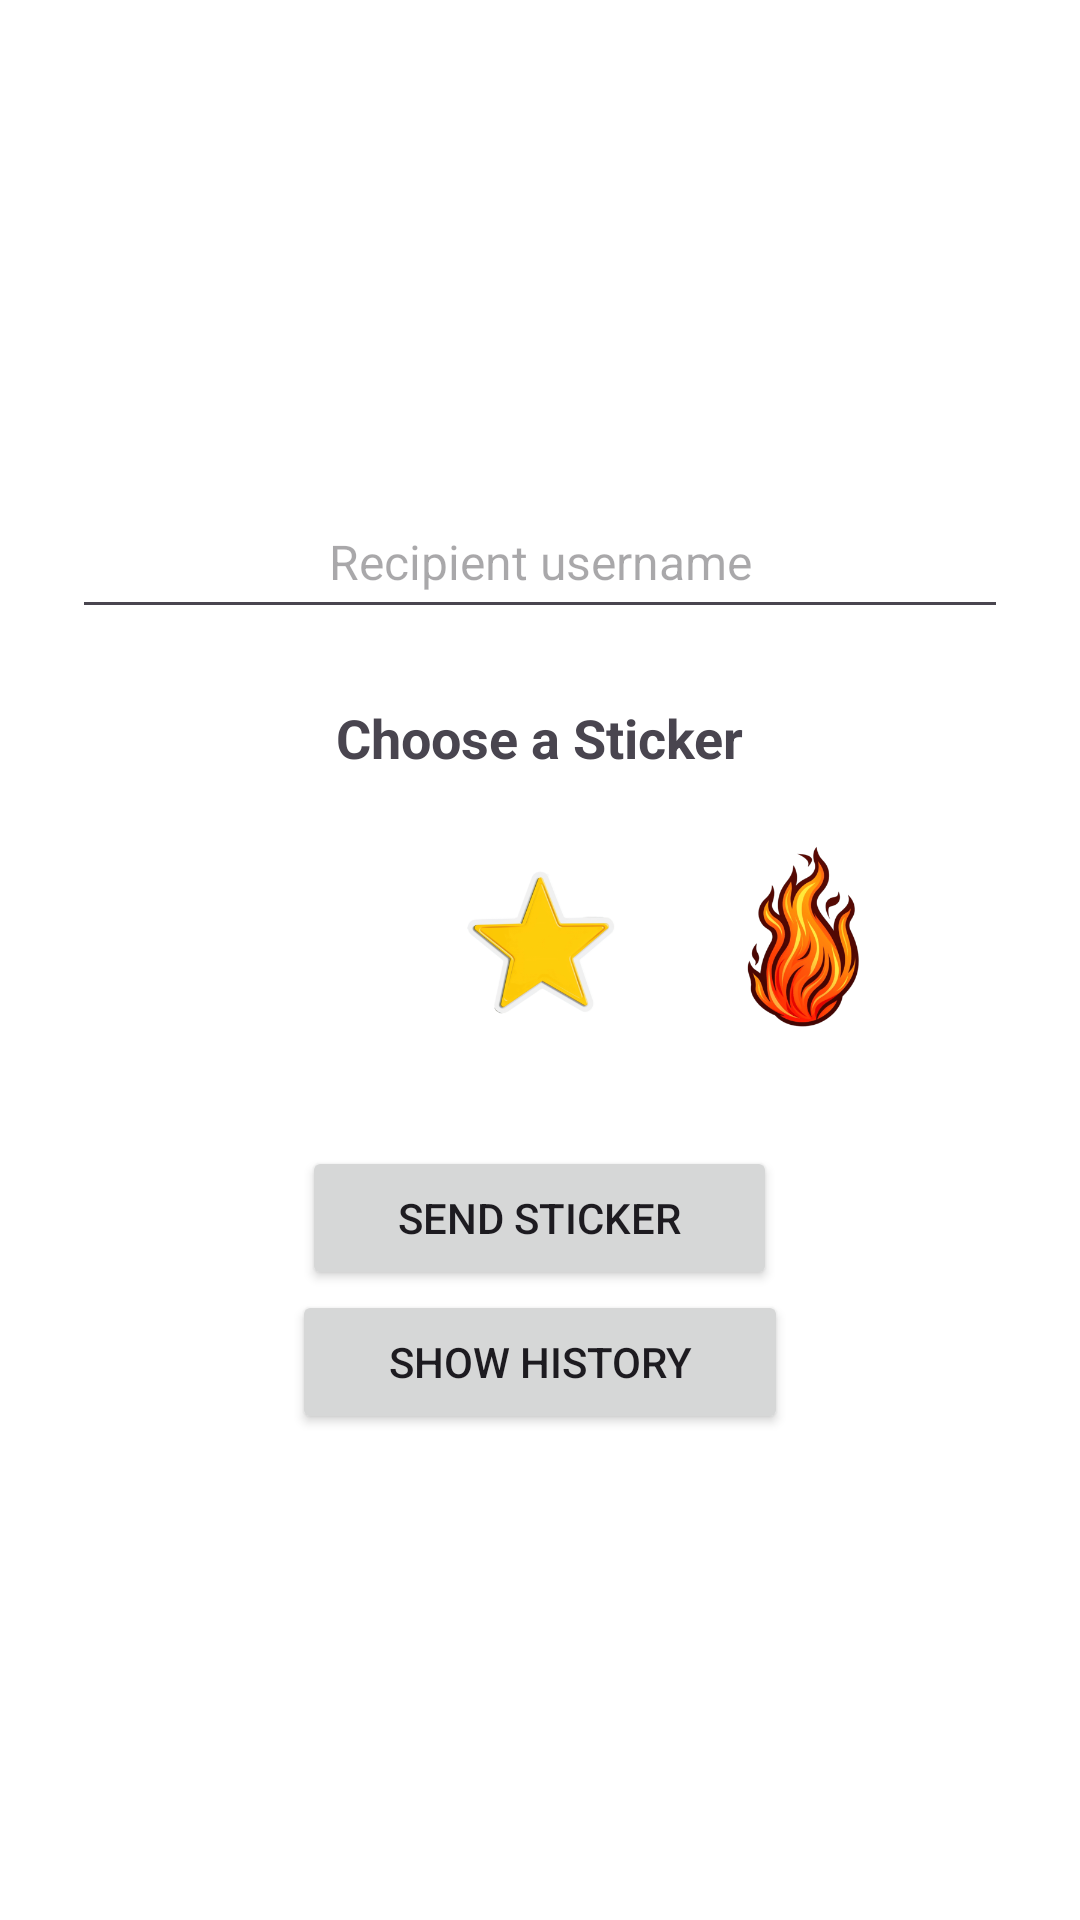

Named icons in this screenshot (1080×1920) and their bounding boxes, {"left": x1, "top": y1, "right": x2, "bottom": y2}:
Fire Sticker: {"left": 747, "top": 847, "right": 859, "bottom": 1027}
Star Sticker: {"left": 472, "top": 877, "right": 610, "bottom": 1013}
